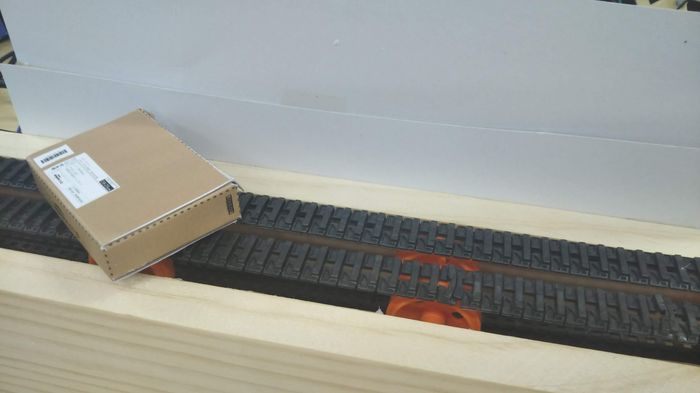box2: (24, 105, 242, 280)
